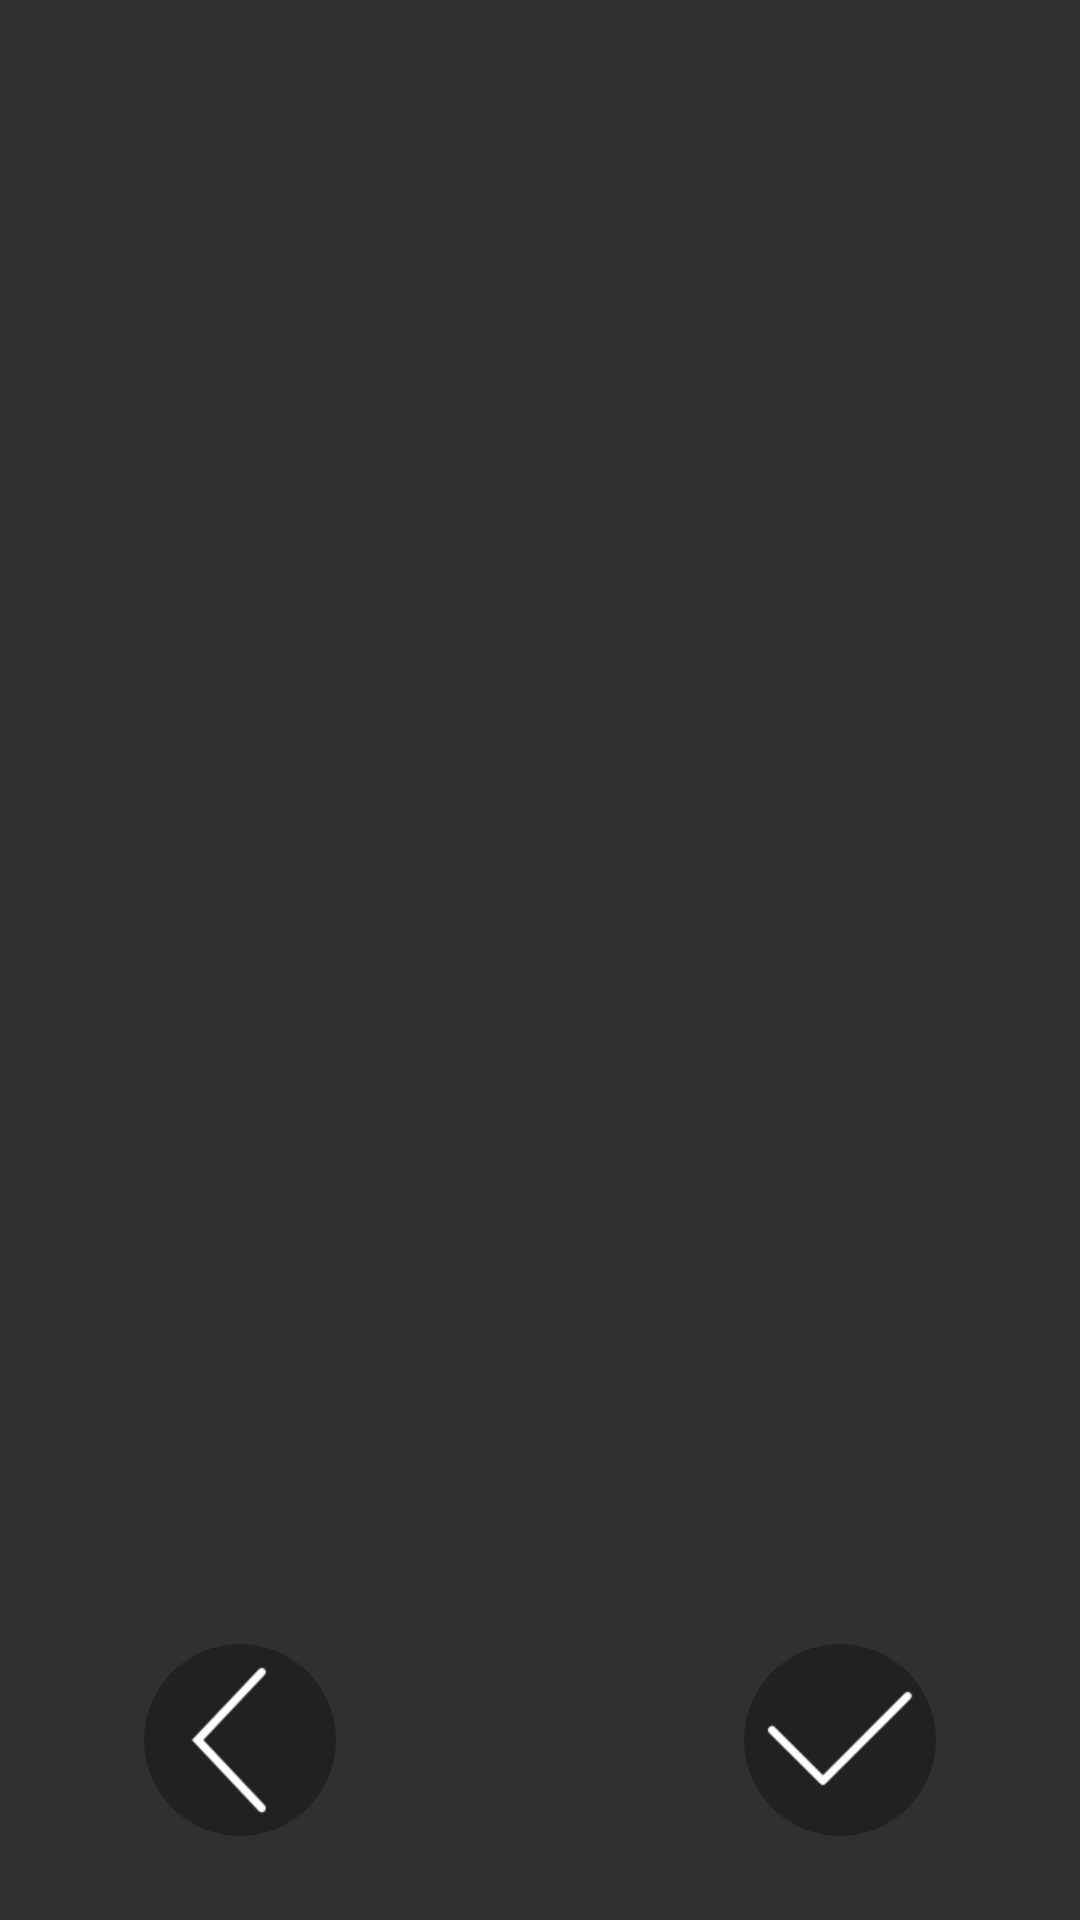

Icon click points for this 1080 × 1920 phone screenshot, format point (x, y):
save: point (840, 1740)
